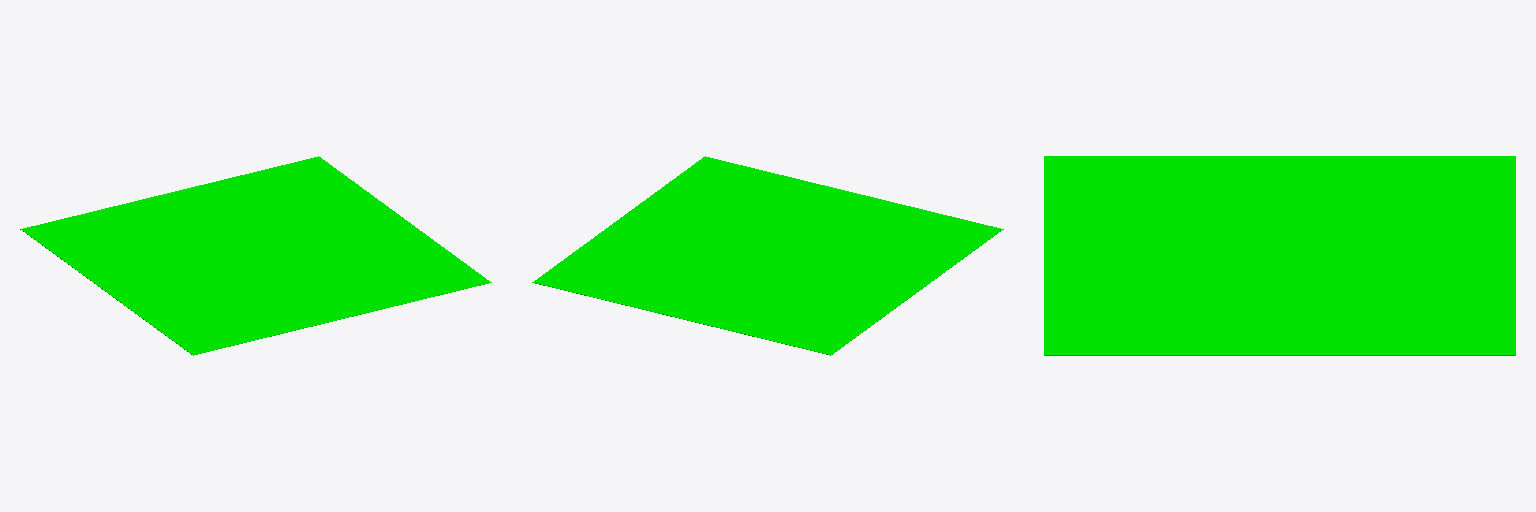
The robot description file, URDF, robot "simple_box":
<robot name="simple_box">
    <material name="green">
      <color rgba="0 1 0 1"/>
    </material>
  <link name="my_box">
    <inertial>
      <origin xyz="0 0 0" /> 
      <mass value=".0" />
      <inertia  ixx=".0" ixy=".0"  ixz=".0"  iyy=".0"  iyz=".0"  izz=".0" />
    </inertial>
    <visual>
      <origin xyz="0 0 0"/>
      <geometry>
        <box size="1 1 0.001" />
      </geometry>
      <material name="green"/>
    </visual>
    <collision>
      <origin xyz="0 0 0"/>
      <geometry>
        <box size="1 1 0.001" />
      </geometry>
    </collision>
  </link>
</robot>

--- What the picture shows (computed from the rendered views, not written in the file) ---
Views: 3 orthographic renders of the robot side by side, from view 1: azimuth 30°, elevation 25°; view 2: azimuth 150°, elevation 25°; view 3: azimuth 270°, elevation 25°.
Robot: simple_box — 1 links, 0 joints (none); root link my_box; default pose: all joints at 0.
Visible links, largest first — view 1: my_box; view 2: my_box; view 3: my_box.
Link boxes in pixels (x1,y1,x2,y2): my_box: [20, 156, 491, 355]; my_box: [532, 156, 1003, 355]; my_box: [1044, 156, 1515, 355].
Bounding box of the posed robot: 1 × 1 × 0.001 m (x, y, z).
Geometry: primitives only (box / cylinder / sphere), no mesh files.
